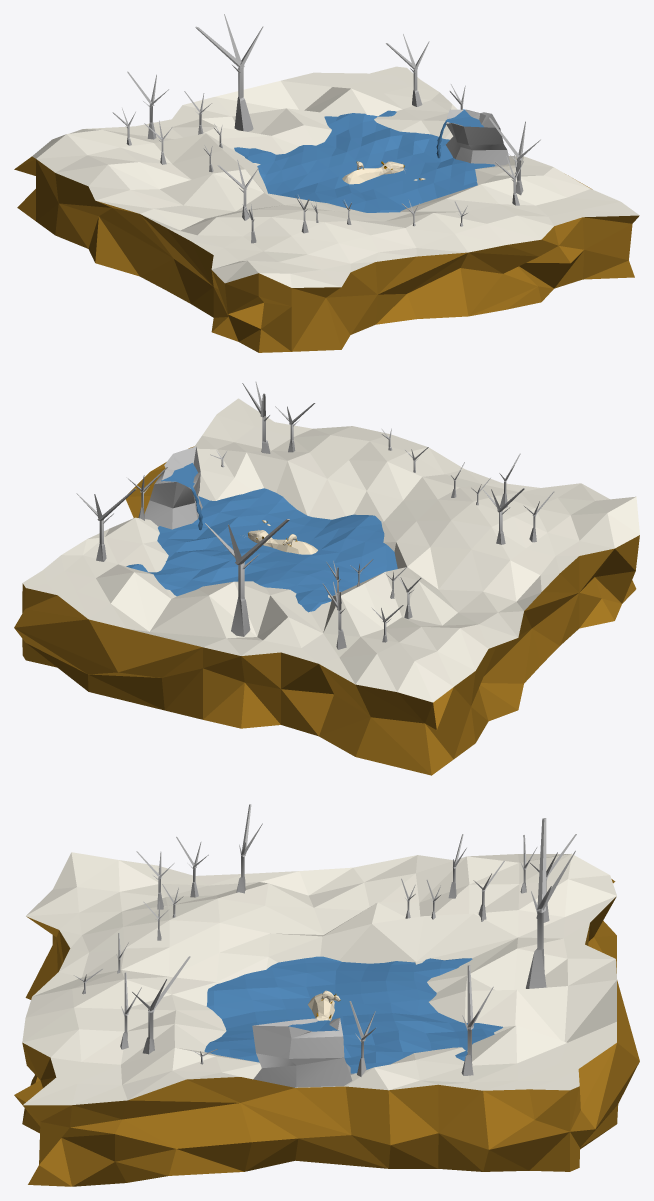
Rendered from capybaras bath.fbx.
The picture shows the model from 3 angles, top to bottom: view 1: azimuth 30°, elevation 25°; view 2: azimuth 150°, elevation 25°; view 3: azimuth 270°, elevation 25°; orthographic projection. The views are drawn at different scales.
Parts seen in each view (by area): view 1: pPlane2, water, pCube39, pCube5, CapybaraGrown; view 2: pPlane2, water, pCube39, pCube5, CapybaraGrown; view 3: pPlane2, water, pCube39, pCube5.
Part boxes in pixels (x1,y1,x2,y2): pPlane2: (14,66,639,352); water: (234,109,495,212); pCube39: (112,14,540,243); pCube5: (446,109,509,165); CapybaraGrown: (342,161,404,184); pPlane2: (14,398,639,775); water: (126,463,397,612); pCube39: (76,381,554,649); pCube5: (144,446,202,529); CapybaraGrown: (248,530,317,554); pPlane2: (14,852,639,1186); water: (204,956,502,1073); pCube39: (74,804,576,1075); pCube5: (252,1018,354,1087).
Bounding box in the file's own units: 32856 × 12140 × 32229.
